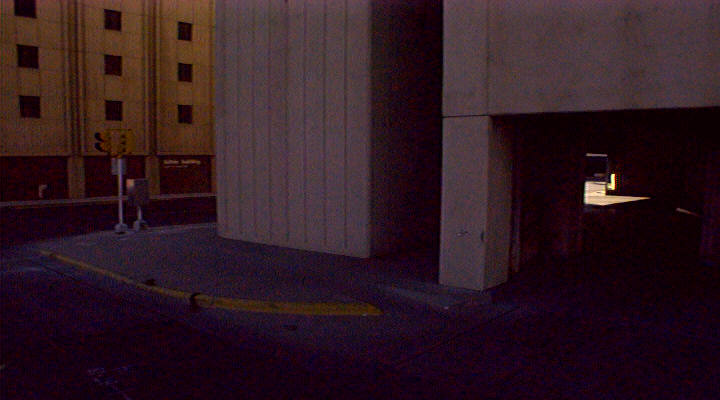Ramp: (343, 281, 450, 320), (25, 228, 100, 258)
